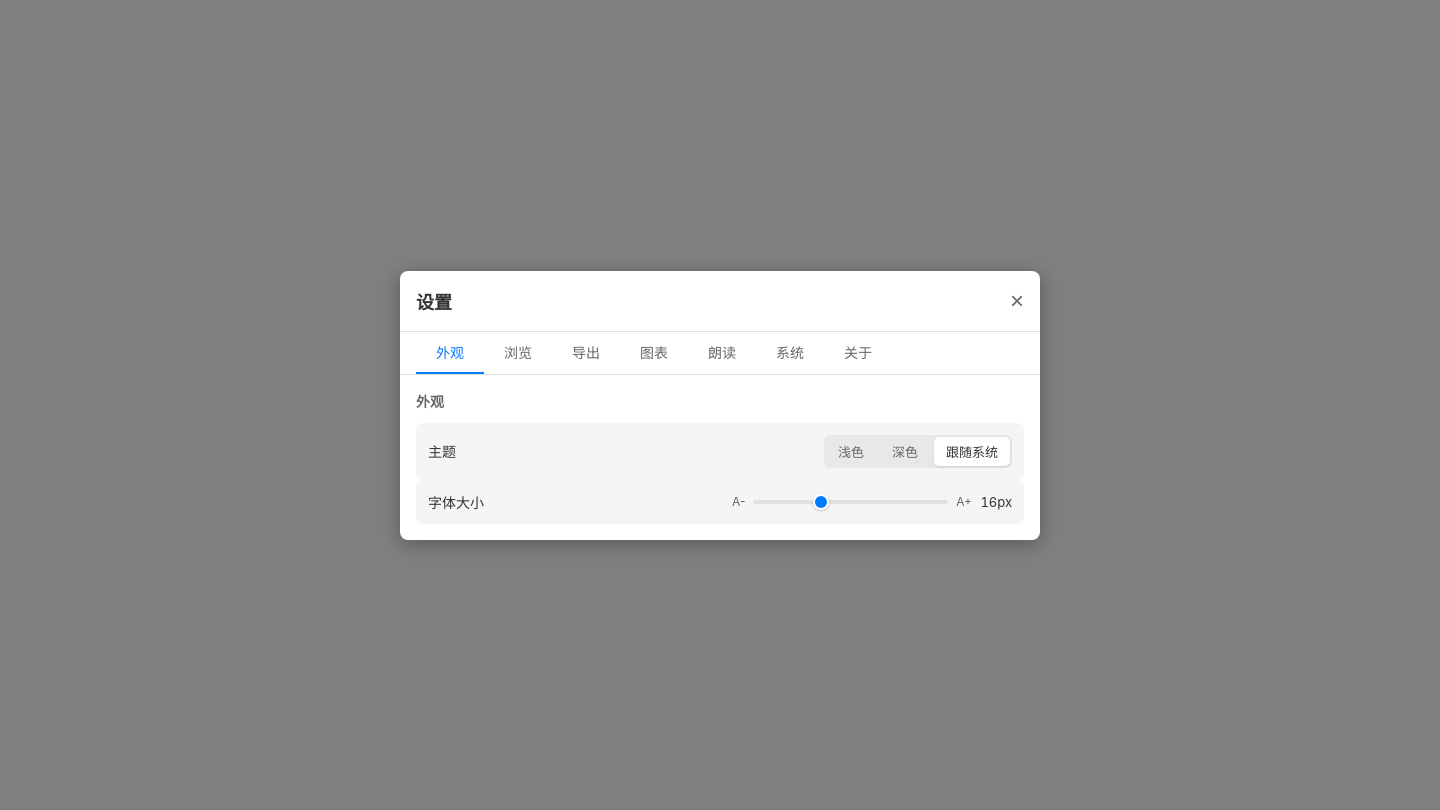
Test: SettingsPanel DOCX service styles › disables preview style without showing a warning for a supported active style
The image size is (1440, 810).
Click the tab "导出". click: (586, 352)
box: [552,332,620,374]
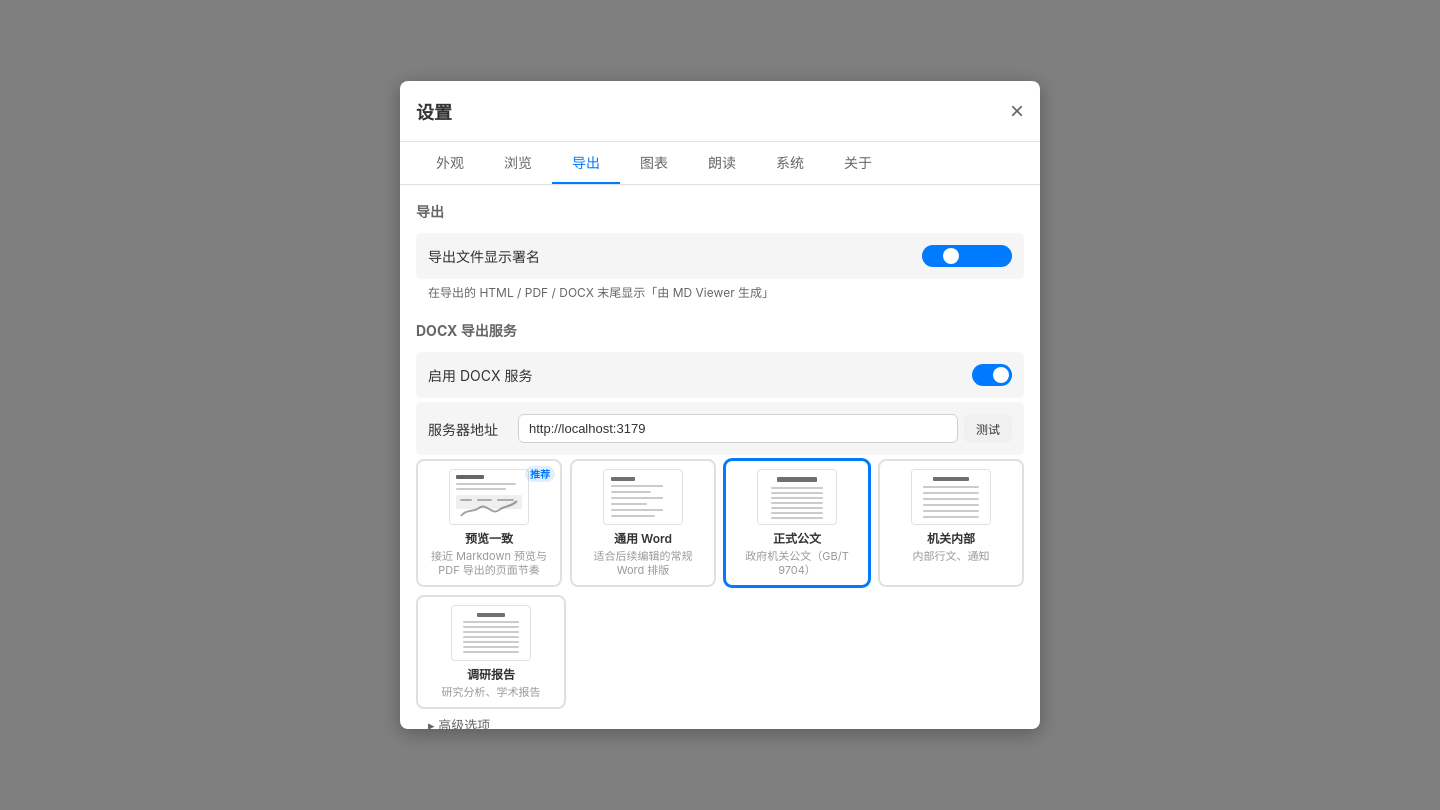
Check: the field showing "http://localhost:3179" is shown, box [518,414,958,443]
Click the button "测试". click: (988, 428)
box: [964,414,1012,443]
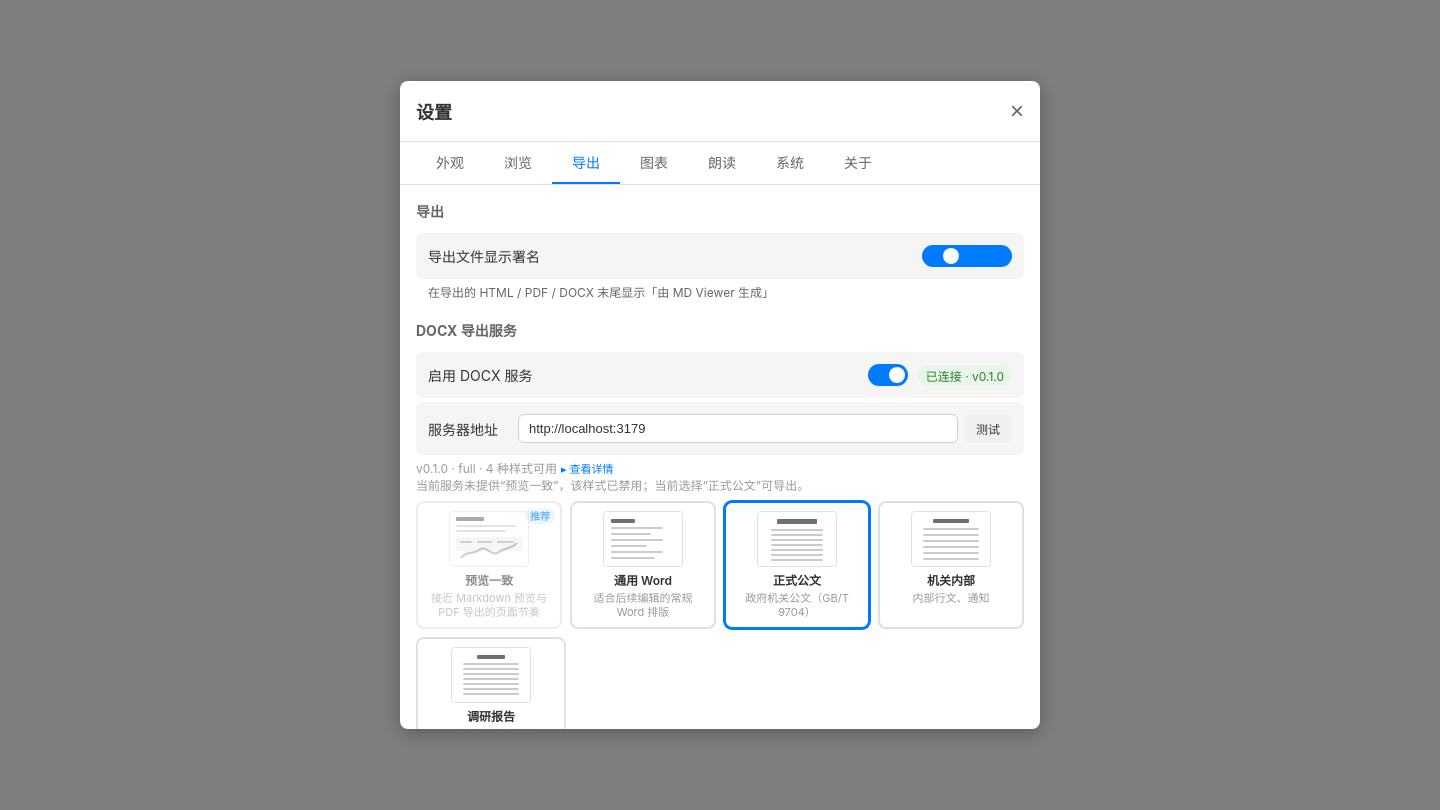
Check: the text "v0.1.0 · full · 4 种样式可用" is shown, box [416,461,614,476]
Check: the text "当前服务未提供“预览一致”，该样式已禁用；当前选择“正式公文”可导出。" is shown, box [416,478,809,493]
Check: the radio button labelled "推荐 预览一致 接近 Markdown 预览与 PDF 导出的页面节奏" is disabled, box [416,501,562,629]
